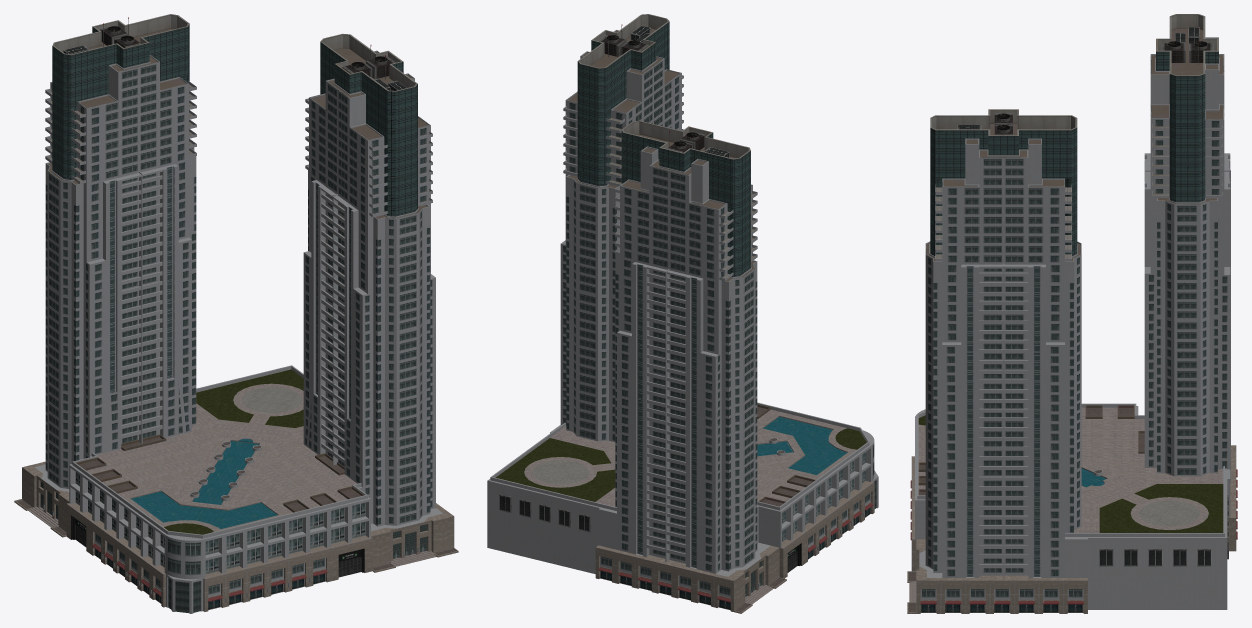
Rendered from podium_tower.glb.
3 views of the same model, side by side, from view 1: azimuth 30°, elevation 25°; view 2: azimuth 150°, elevation 25°; view 3: azimuth 270°, elevation 25° (orthographic). The views are drawn at different scales.
Visible parts, largest first — view 1: bld; view 2: bld; view 3: bld.
Part boxes in pixels (x1=…): bld: x1=14, y1=14, x2=458, y2=613; bld: x1=487, y1=14, x2=878, y2=613; bld: x1=907, y1=14, x2=1237, y2=613.
Bounding box in the file's own units: 94.97 × 153 × 94.97.
Materials: 1 (1 with a texture image).
